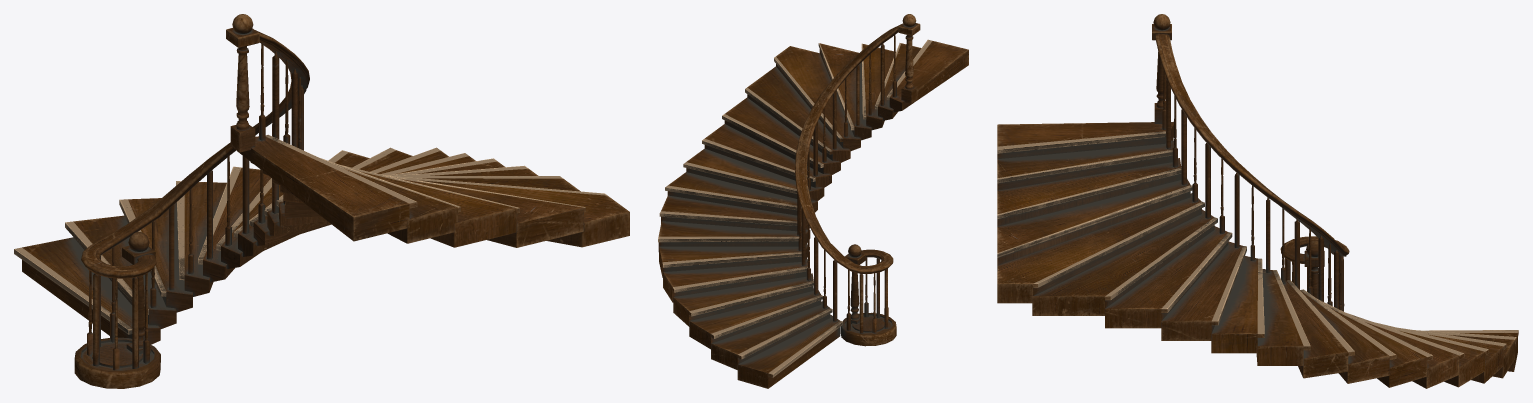
File: stairs.glb
3 views of the same model, side by side, from view 1: azimuth 30°, elevation 25°; view 2: azimuth 150°, elevation 25°; view 3: azimuth 270°, elevation 25° (orthographic). The views are drawn at different scales.
Parts seen in each view (by area): view 1: 01_01_0; view 2: 01_01_0; view 3: 01_01_0.
Boxes of the visible parts, box(x1,y1,x2,y2) form: 01_01_0: box(14, 14, 629, 388); 01_01_0: box(658, 14, 968, 388); 01_01_0: box(997, 14, 1518, 388).
Size of the model in its own units: 2.77 by 3.12 by 4.35.
1 material, 1 textured.
